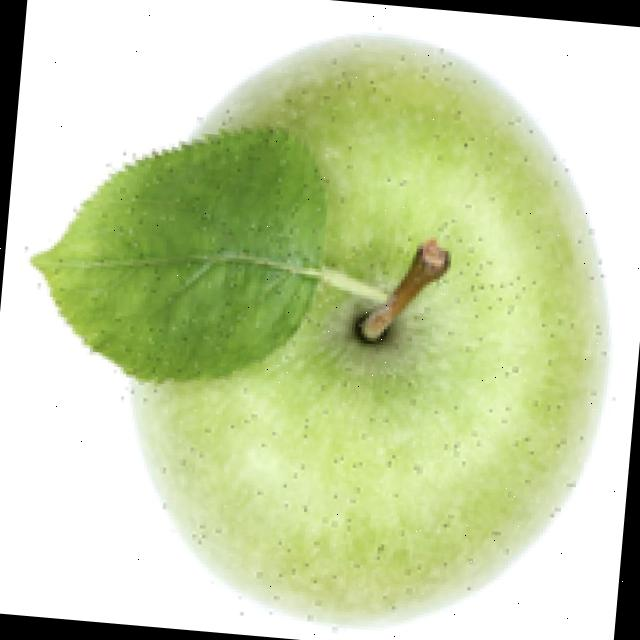apple: (21, 25, 615, 633)
